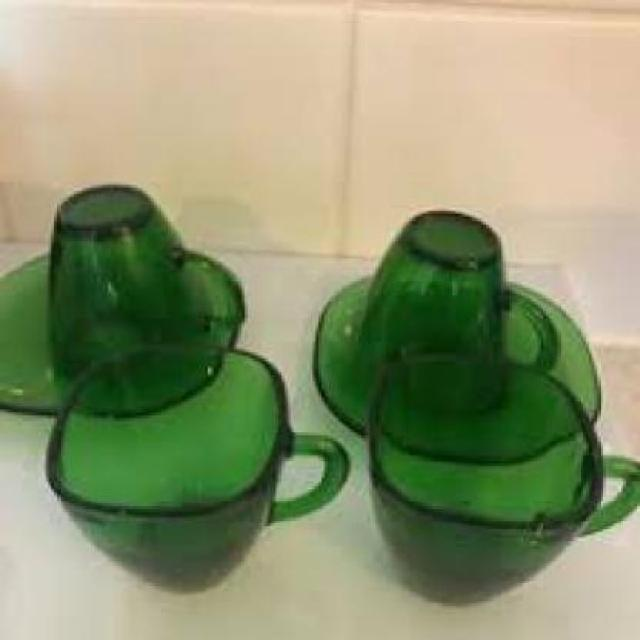kaca: (43, 338, 348, 592), (368, 348, 637, 606), (312, 271, 600, 458), (0, 244, 242, 416), (351, 208, 558, 404), (46, 183, 242, 371)
